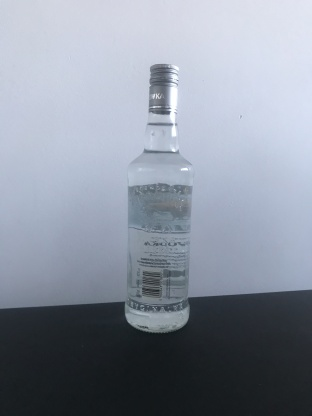nakretka: (147, 62, 180, 114)
